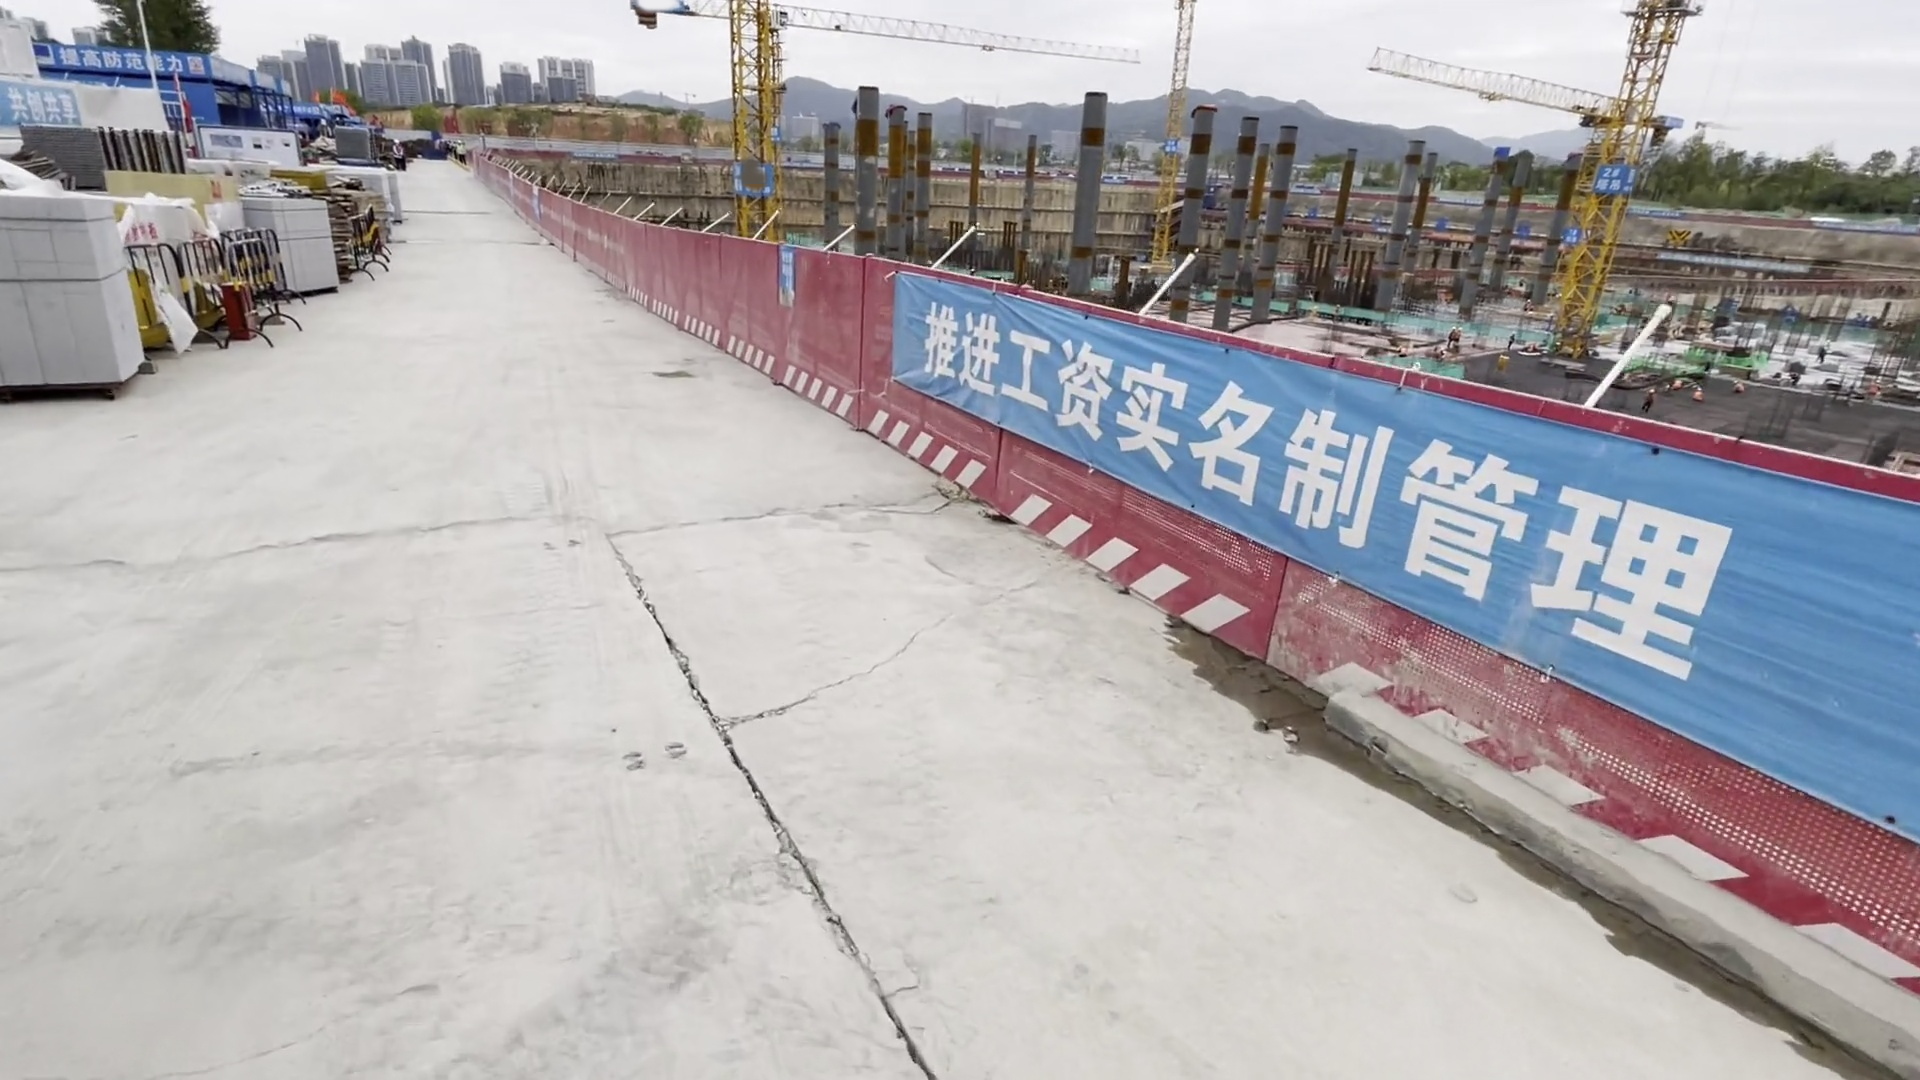brick: (1, 190, 171, 389), (239, 194, 342, 303)
fence: (465, 150, 895, 442)
slogan: (913, 293, 1865, 785)
